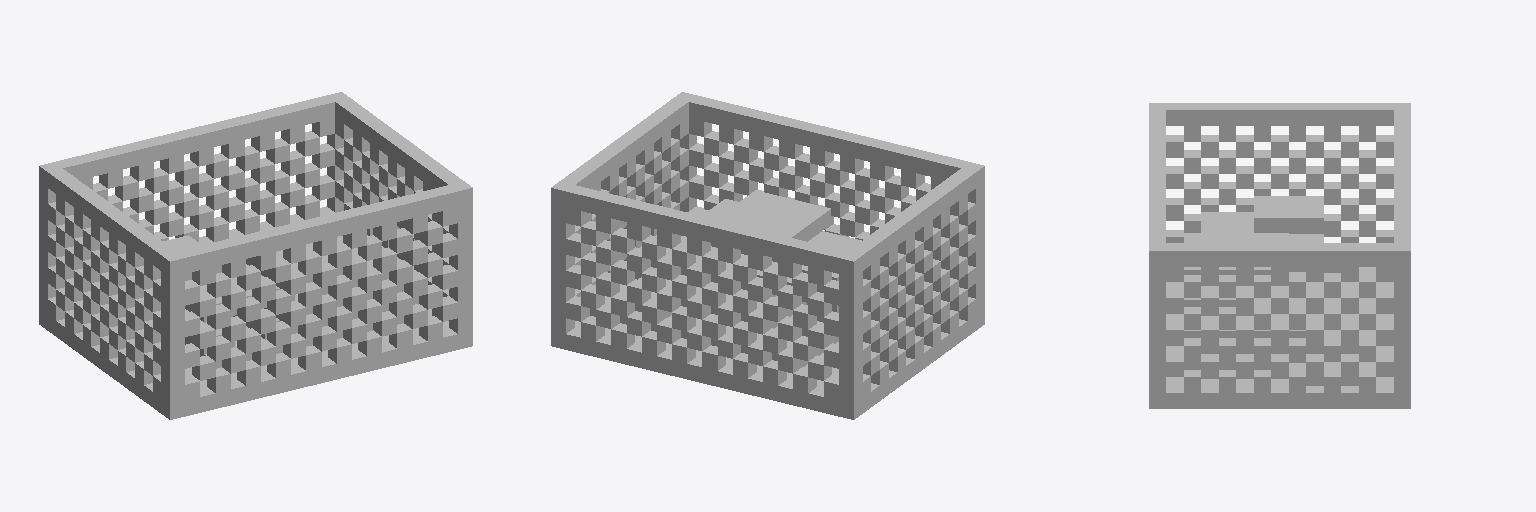
The model's file is LaundryBasket.obj.
The picture shows the model from 3 angles: view 1: azimuth 30°, elevation 25°; view 2: azimuth 150°, elevation 25°; view 3: azimuth 270°, elevation 25°; orthographic projection.
Visible parts, largest first — view 1: object 1; view 2: object 1; view 3: object 1.
Boxes of the visible parts, <box> form: object 1: <box>39,92,472,419</box>; object 1: <box>551,92,984,419</box>; object 1: <box>1149,103,1410,408</box>.
Size of the model in its own units: 2 by 1 by 1.5.